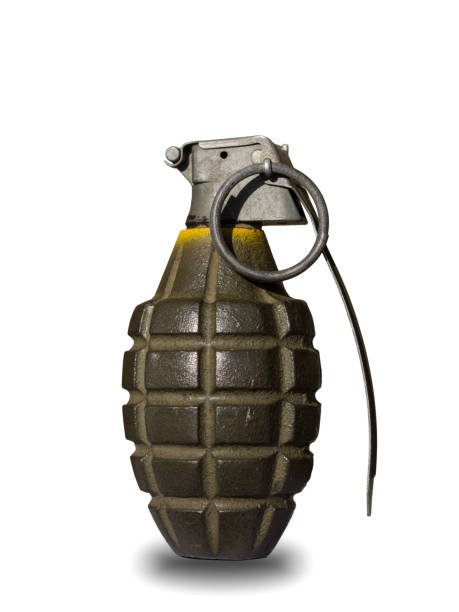e1: (120, 135, 379, 560)
